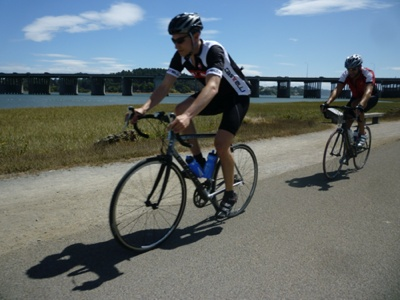helmet: (167, 10, 206, 56), (343, 53, 366, 78)
